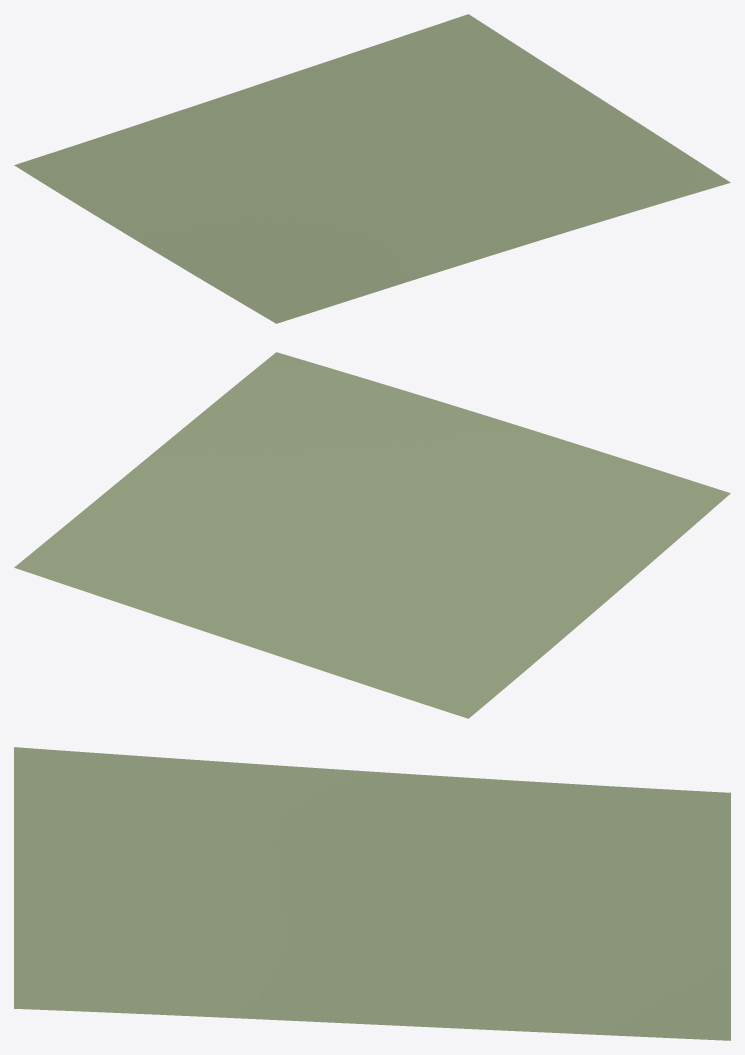
The model's file is desert-10-25.glb.
3 renders of one model, top to bottom at view 1: azimuth 30°, elevation 25°; view 2: azimuth 150°, elevation 25°; view 3: azimuth 270°, elevation 25°, orthographic. The views are drawn at different scales.
Parts seen in each view (by area): view 1: desert-10-25; view 2: desert-10-25; view 3: desert-10-25.
Boxes of the visible parts, x1,y1,x2,y2 form: desert-10-25: (14,14,730,323); desert-10-25: (14,352,730,718); desert-10-25: (14,747,730,1040).
Size of the model in its own units: 512 by 68.56 by 512.
